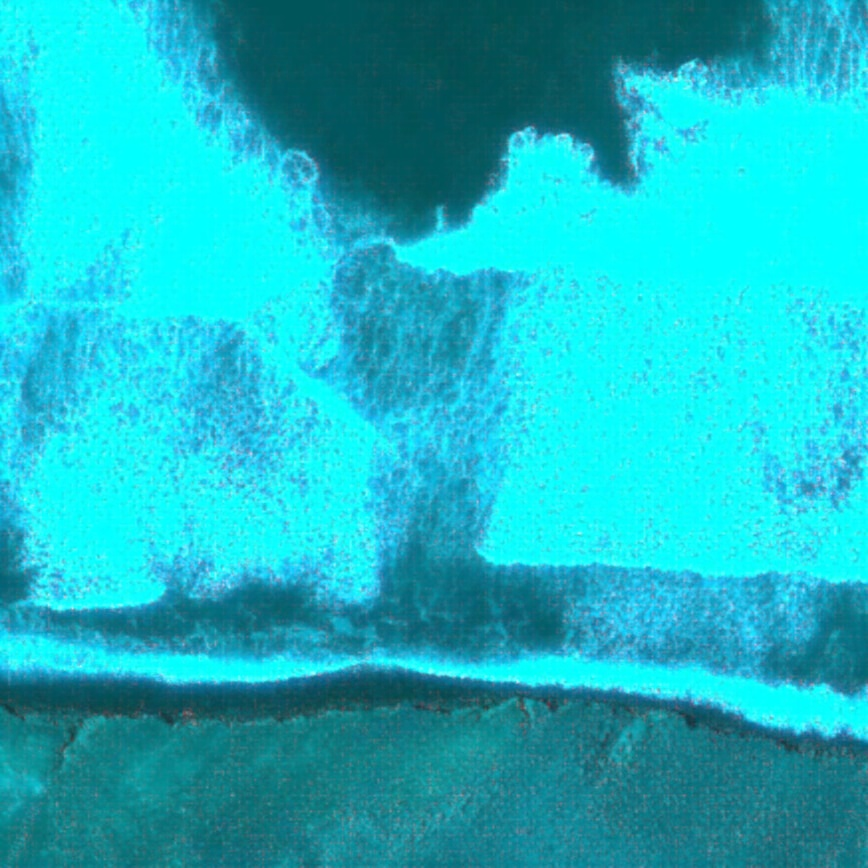rip_current: (279, 154, 577, 614)
